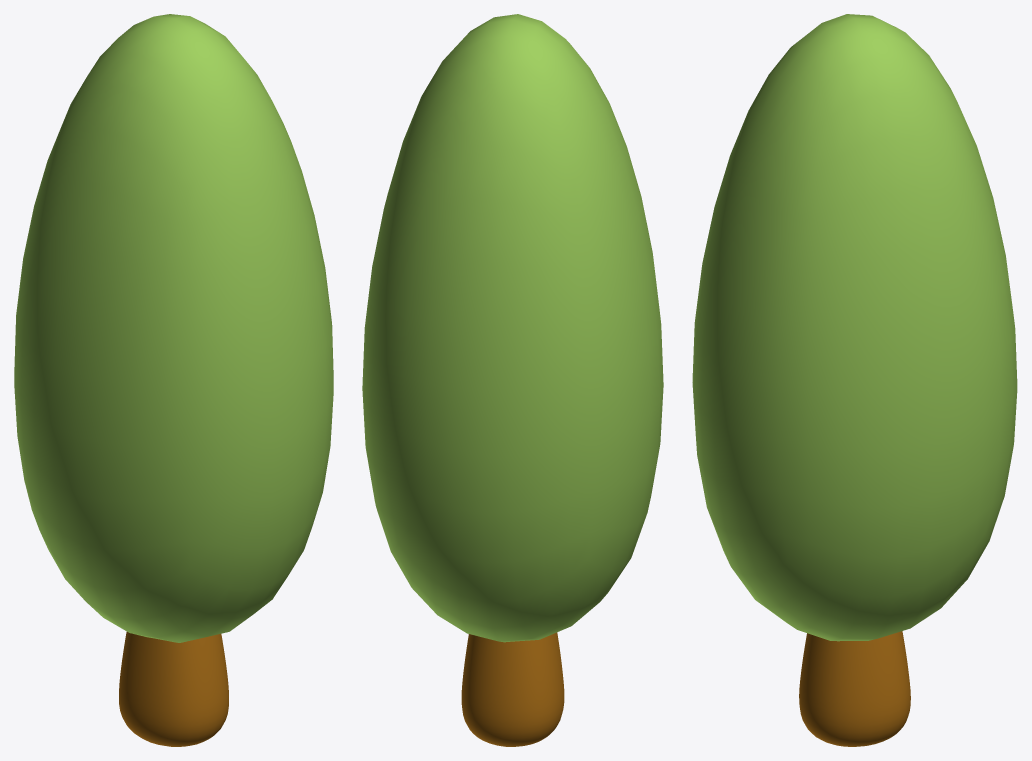
Rendered from Tree2.fbx.
3 views of the same model, side by side, from view 1: azimuth 30°, elevation 25°; view 2: azimuth 150°, elevation 25°; view 3: azimuth 270°, elevation 25° (orthographic).
Visible parts, largest first — view 1: Tree2; view 2: Tree2; view 3: Tree2.
Part boxes in pixels (bbox=[...]): Tree2: bbox=[14, 14, 333, 746]; Tree2: bbox=[362, 14, 663, 746]; Tree2: bbox=[692, 14, 1017, 746].
Bounding box in the file's own units: 1.96 × 5.1 × 2.09.
